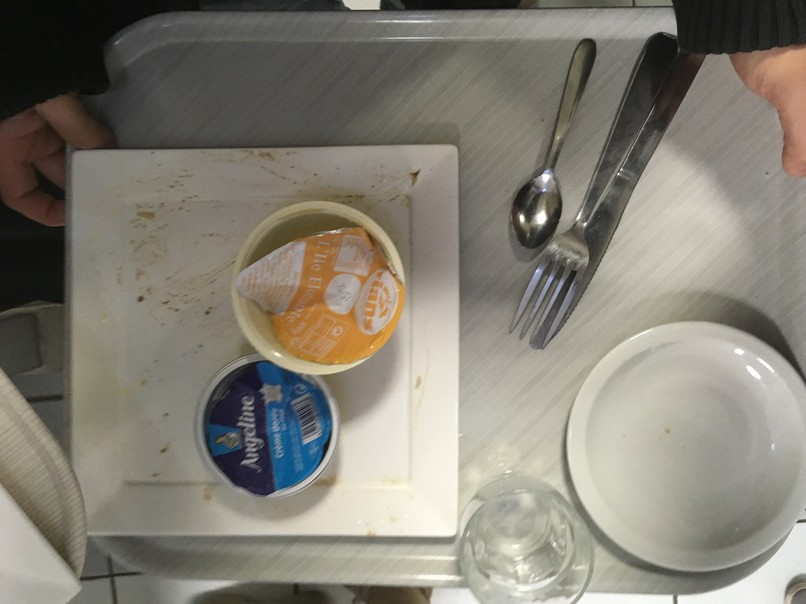cup: (455, 461, 601, 604)
cutlery: (504, 36, 717, 345), (506, 33, 616, 258)
trash: (219, 192, 416, 378), (200, 355, 348, 501)
